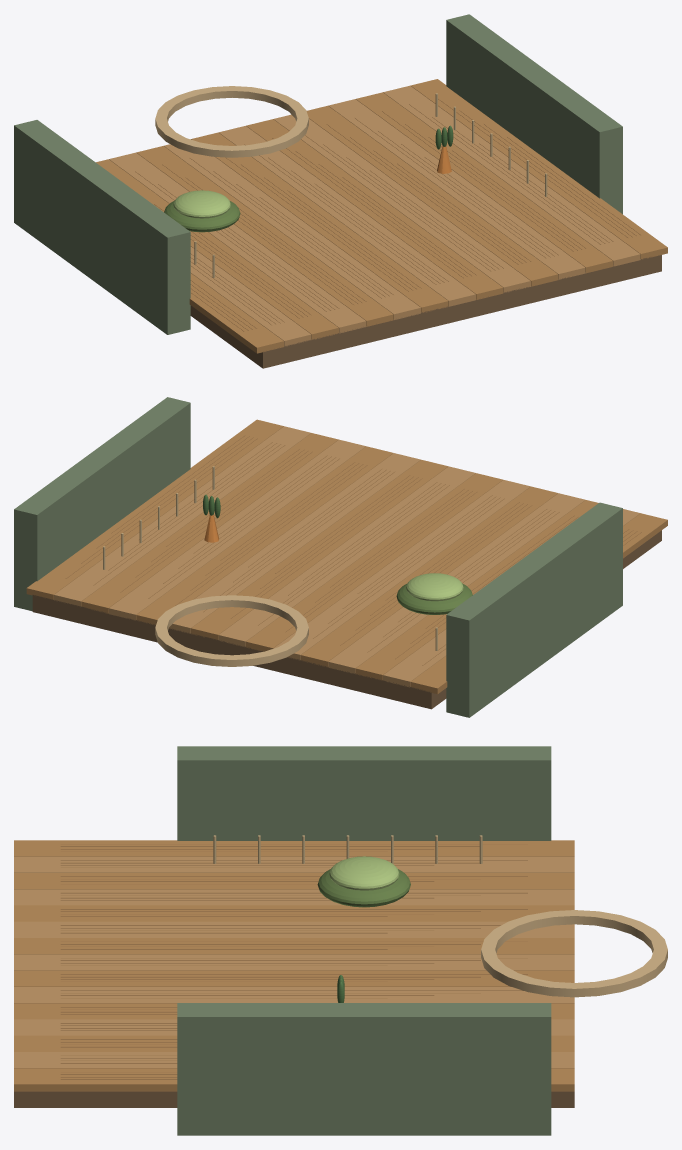
The model's file is zone_01.obj.
3 renders of one model, top to bottom at view 1: azimuth 30°, elevation 25°; view 2: azimuth 150°, elevation 25°; view 3: azimuth 270°, elevation 25°, orthographic. The views are drawn at different scales.
Size of the model in its own units: 27.4 by 5.6 by 28.
